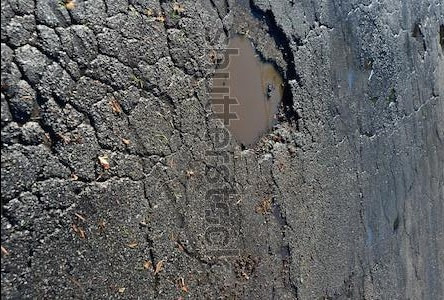pothole: (206, 4, 308, 164), (411, 21, 428, 65), (438, 19, 444, 59)
